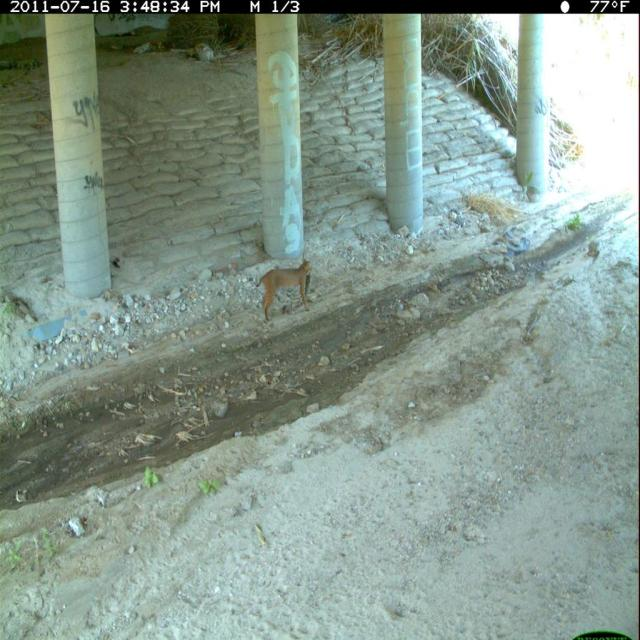bobcat: (254, 251, 320, 325)
rabbit: (303, 271, 314, 303)
